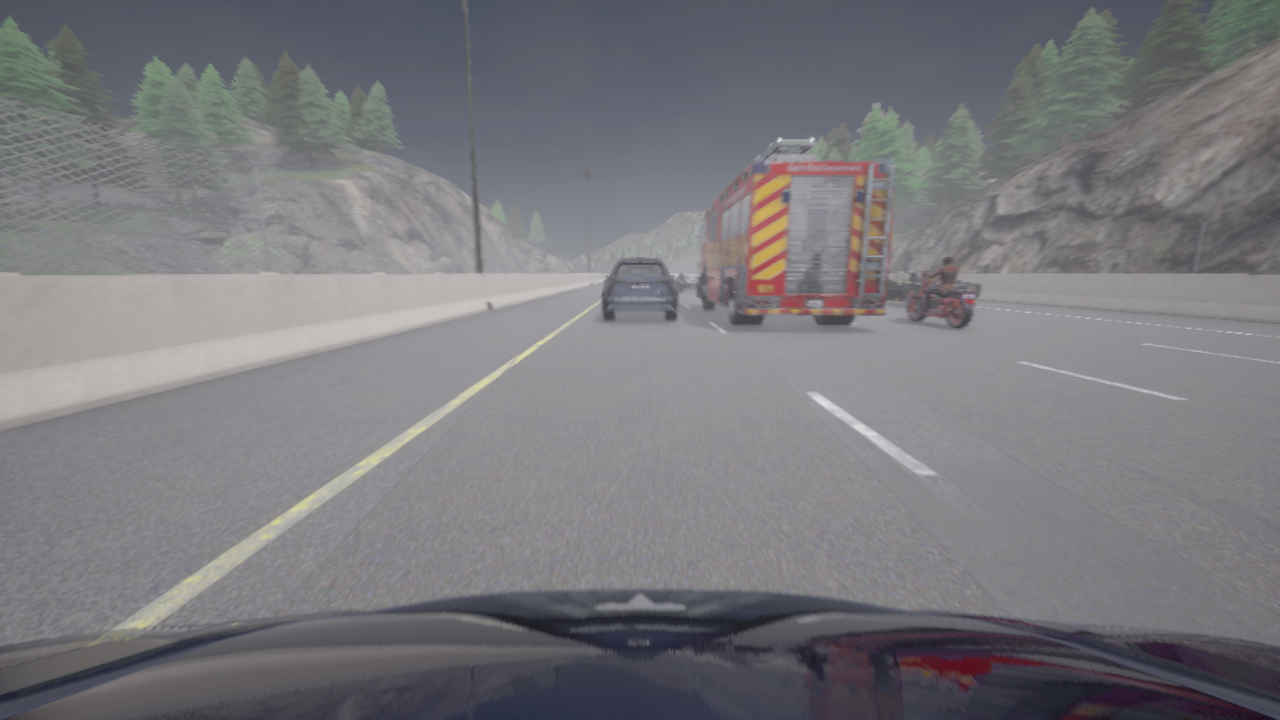cyclist: (0, 588, 1279, 719), (692, 138, 894, 325), (602, 257, 677, 320), (907, 271, 975, 328), (885, 271, 980, 304), (675, 272, 699, 291), (627, 257, 652, 258)
